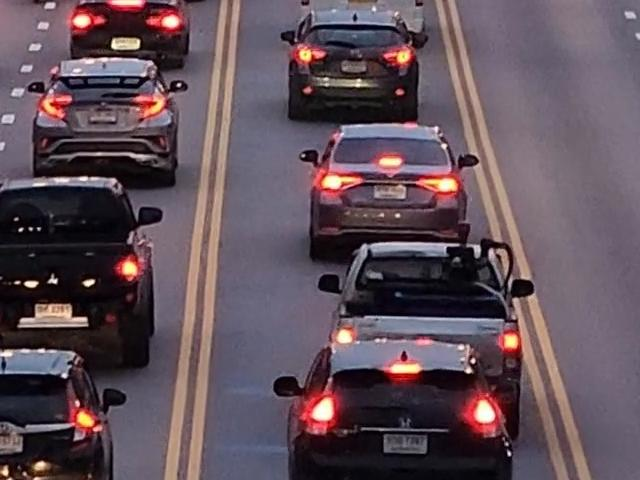car: (266, 341, 526, 480), (320, 232, 540, 385), (293, 125, 490, 242), (0, 341, 139, 480), (23, 62, 193, 172), (287, 8, 437, 118), (61, 0, 192, 67)
pickup-truck: (0, 178, 186, 358)
